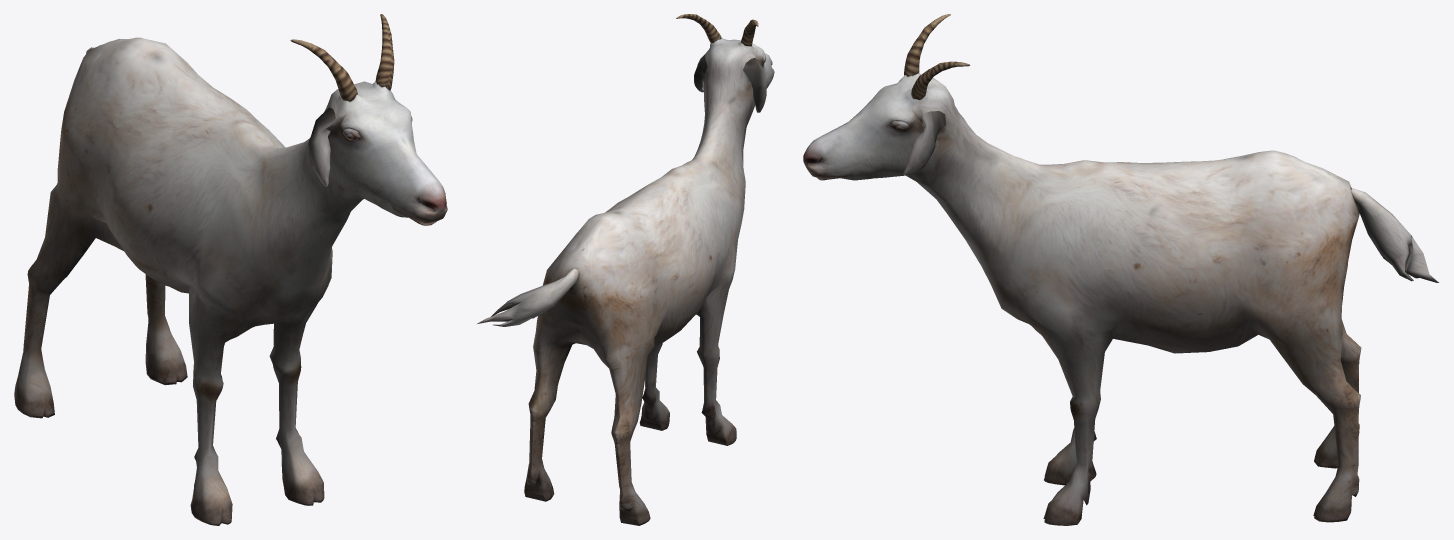
File: 18_chagol.fbx
3 renders of one model, left to right at view 1: azimuth 30°, elevation 25°; view 2: azimuth 150°, elevation 25°; view 3: azimuth 270°, elevation 25°, orthographic. The views are drawn at different scales.
Visible parts, largest first — view 1: goat:Mesh; view 2: goat:Mesh; view 3: goat:Mesh.
Boxes of the visible parts, bbox=[...] form: goat:Mesh: bbox=[14, 14, 447, 525]; goat:Mesh: bbox=[477, 14, 774, 525]; goat:Mesh: bbox=[803, 14, 1438, 525].
Size of the model in its own units: 17.77 by 50.52 by 61.54.
